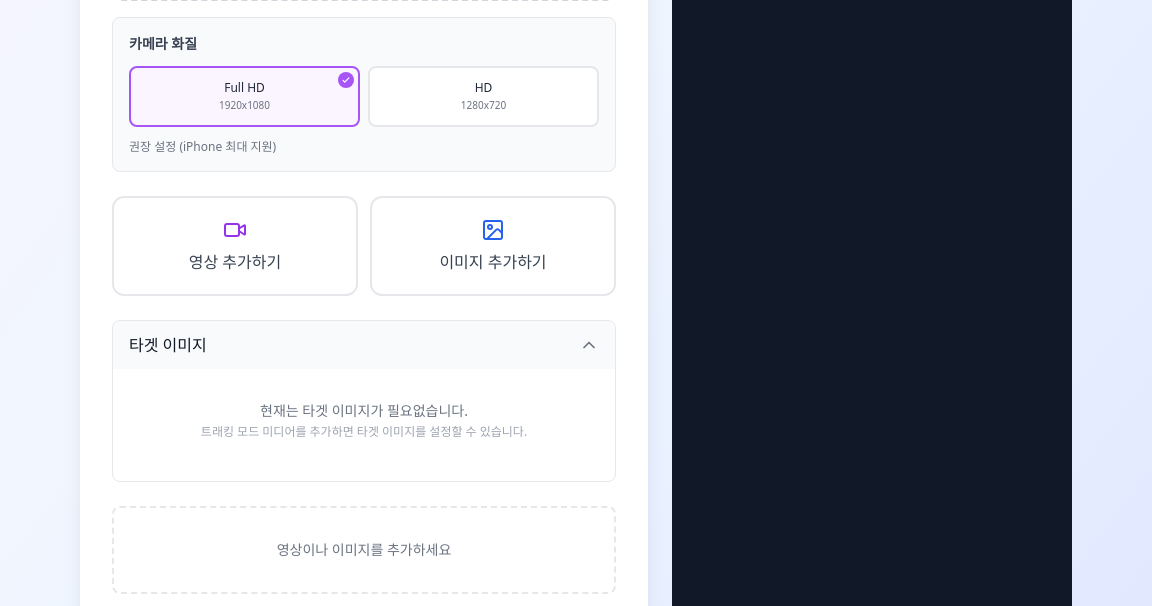
Test case: CreateProjectPage › HighPrecision Option › should show highPrecision checkbox after adding tracking media item
(page scrolled)
영상 추가 버튼 클릭 (기본값: 트래킹 모드)
Click the button "영상 추가하기". click: (235, 246)
box: [112,196,358,296]
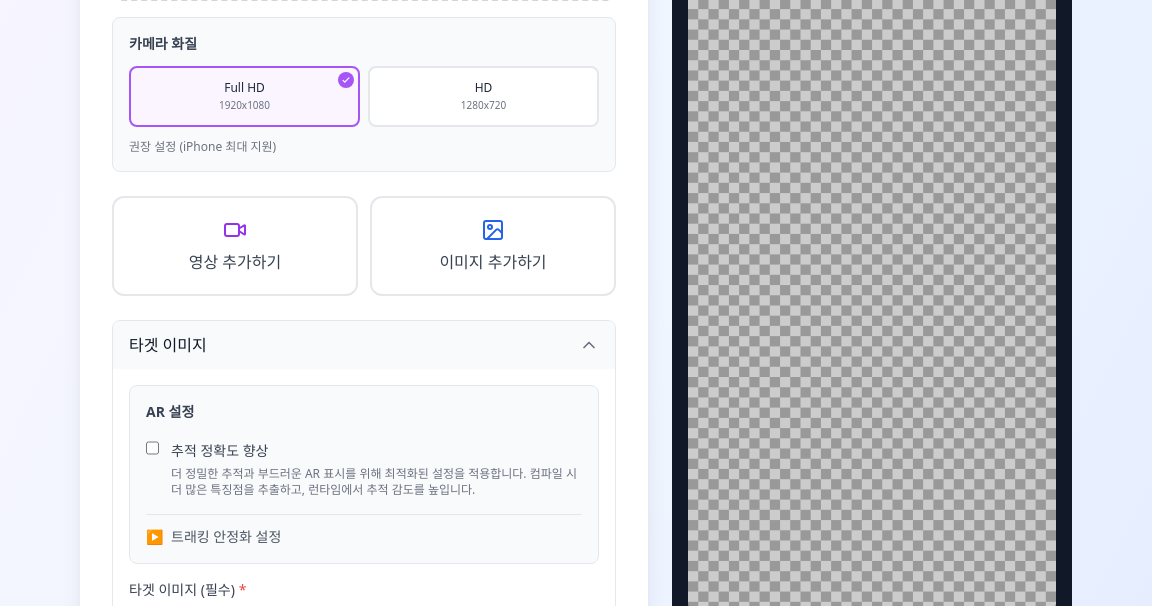
Result: the text "추적 정확도 향상" is shown at [171,441,268,460]
